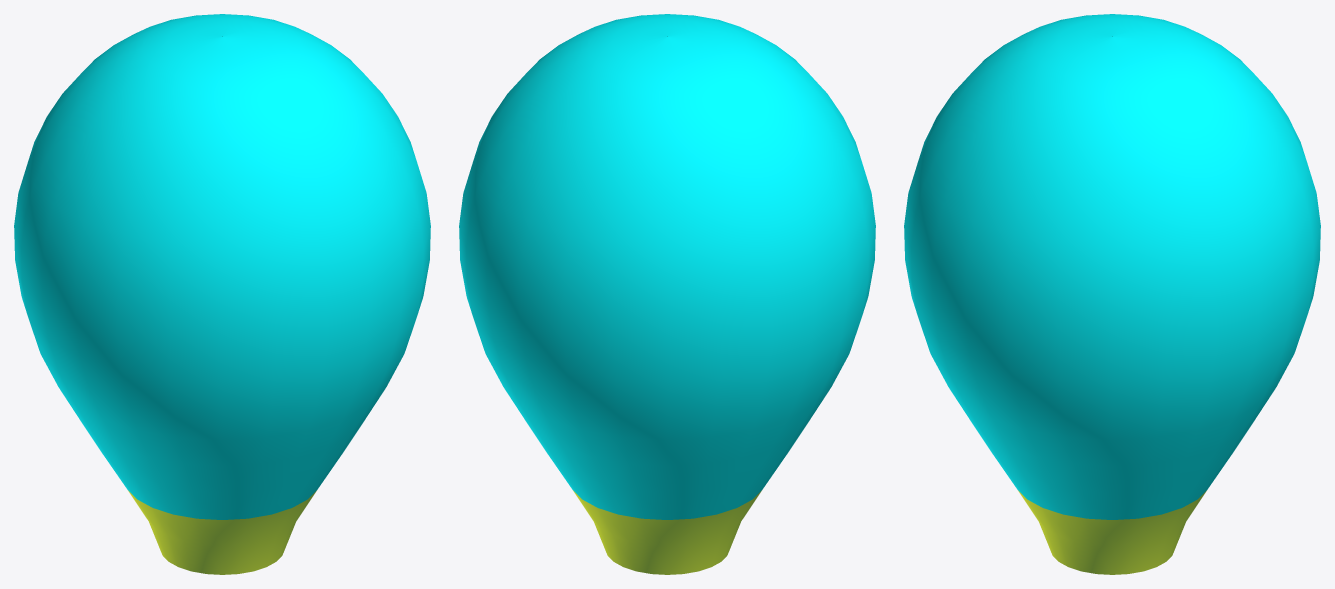
Rendered from balloonCyan.gltf.
3 renders of one model, left to right at view 1: azimuth 30°, elevation 25°; view 2: azimuth 150°, elevation 25°; view 3: azimuth 270°, elevation 25°, orthographic.
Visible parts, largest first — view 1: balloonCyanEnvelope; view 2: balloonCyanEnvelope; view 3: balloonCyanEnvelope.
Boxes of the visible parts, left/top/right/bottom form: balloonCyanEnvelope: left=14, top=14, right=430, bottom=574; balloonCyanEnvelope: left=459, top=14, right=875, bottom=574; balloonCyanEnvelope: left=904, top=14, right=1320, bottom=574.
Bounding box in the file's own units: 6.9 × 9.34 × 6.9.
Materials: 1 (1 with a texture image).
